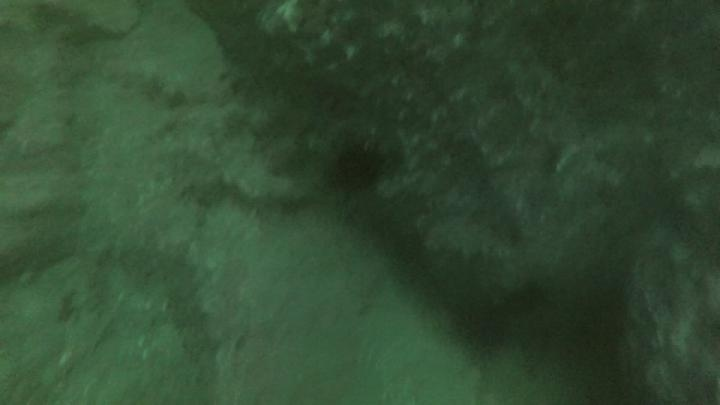echinus: (449, 289, 515, 357), (325, 138, 389, 197)
